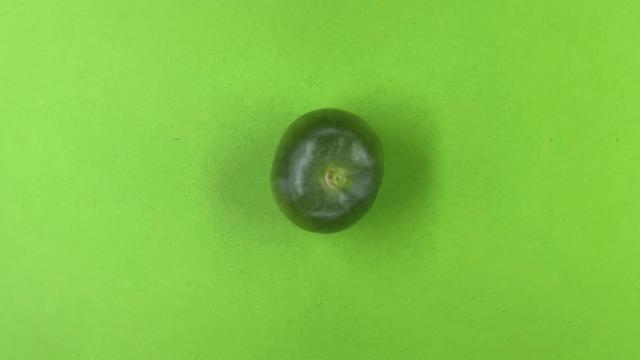Fruit Maturation: (267, 104, 388, 237)
